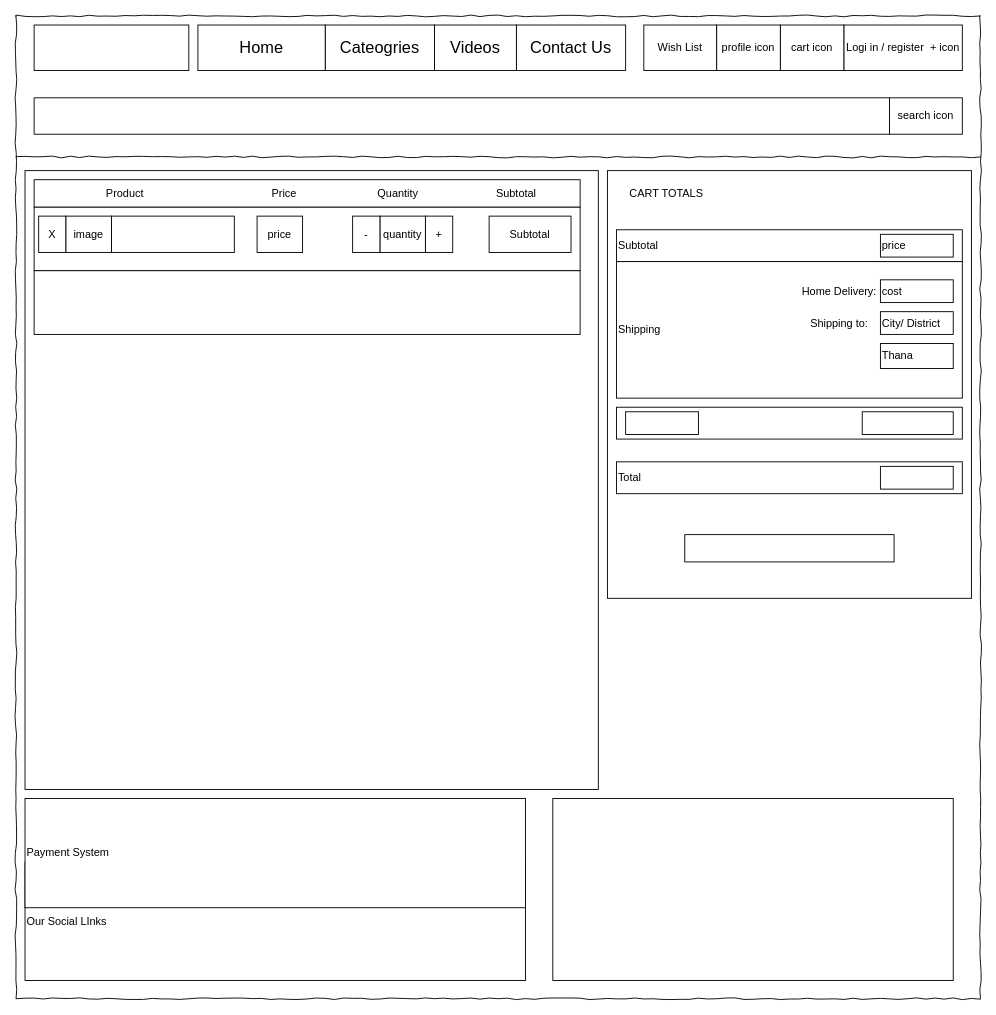
Some shapes in this 996 by 1015 pixel diagram are drawn without their labels. The shapes that lost their labels are listed below. From the top down, each one's centre as x and y in pixels, then its label:
At point 111,47: "Logo".
At point 461,115: "Search for Products".
At point 172,234: "Title".
At point 306,302: "same as above".
At point 661,423: "voucher code".
At point 907,423: "Apply Voucher".
At point 916,477: "charge".
At point 789,548: "Proceed to checkout".
At point 752,889: "Contact Address".
